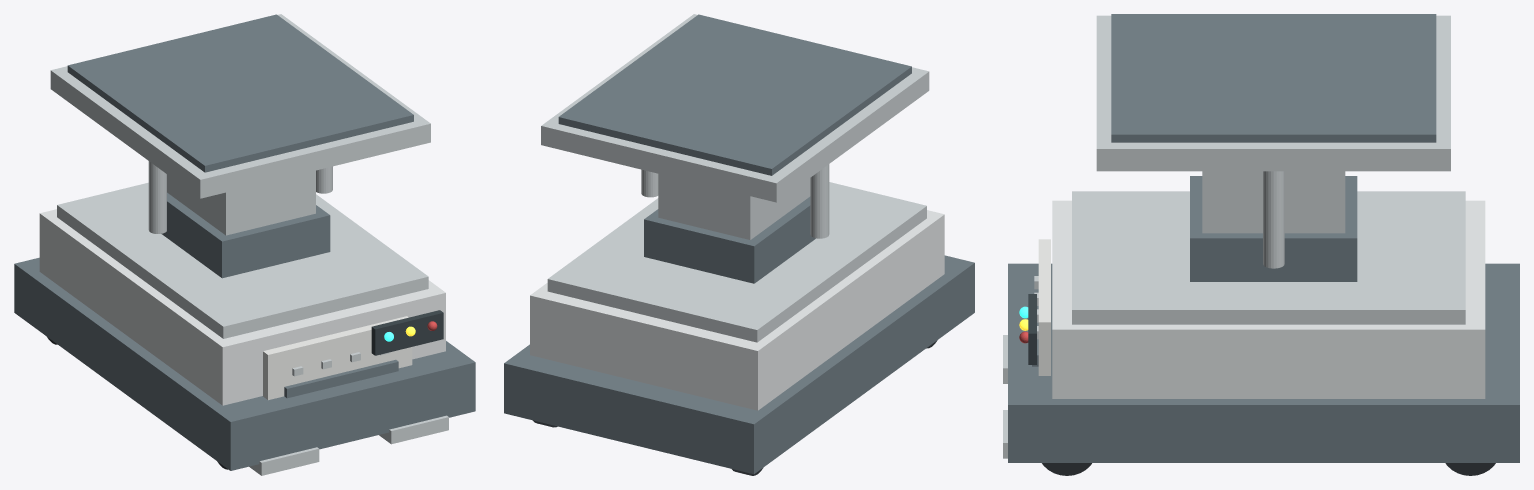
3 renders of one model, left to right at view 1: azimuth 30°, elevation 25°; view 2: azimuth 150°, elevation 25°; view 3: azimuth 270°, elevation 25°, orthographic. The views are drawn at different scales.
Parts seen in each view (by area): view 1: table_mount_top, base_lower_skirt, base_top_bezel, base_upper_shell, table_mount_plate, pedestal_lower, pedestal_mid, base_front_panel, override_panel, base_access_panel, column_guide_-0.23, brake_pedal_left (+1 smaller); view 2: table_mount_top, base_lower_skirt, base_upper_shell, base_top_bezel, table_mount_plate, pedestal_lower, pedestal_mid, column_guide_-0.23; view 3: table_mount_top, base_lower_skirt, base_upper_shell, base_top_bezel, table_mount_plate, pedestal_lower, pedestal_mid, column_guide_0.23, base_front_panel, override_panel.
Part boxes in pixels (x1,y1,x2,y2): table_mount_top: (67, 14, 413, 172); base_lower_skirt: (14, 257, 475, 470); base_top_bezel: (57, 182, 428, 338); base_upper_shell: (39, 209, 445, 405); table_mount_plate: (50, 14, 430, 198); pedestal_lower: (161, 192, 330, 278); pedestal_mid: (167, 170, 315, 235); base_front_panel: (263, 316, 412, 400); override_panel: (371, 310, 443, 355); base_access_panel: (284, 359, 398, 398); column_guide_-0.23: (148, 161, 166, 233); brake_pedal_left: (249, 447, 319, 475); table_mount_top: (558, 14, 911, 175); base_lower_skirt: (504, 255, 974, 474); base_upper_shell: (530, 210, 944, 410); base_top_bezel: (547, 182, 926, 342); table_mount_plate: (541, 14, 929, 202); pedestal_lower: (644, 196, 815, 283); pedestal_mid: (658, 174, 810, 239); column_guide_-0.23: (810, 164, 829, 238); table_mount_top: (1111, 14, 1436, 142); base_lower_skirt: (1008, 263, 1519, 462); base_upper_shell: (1052, 200, 1485, 398); base_top_bezel: (1072, 191, 1465, 324); table_mount_plate: (1096, 15, 1450, 171); pedestal_lower: (1190, 176, 1357, 281); pedestal_mid: (1202, 171, 1345, 233); column_guide_0.23: (1263, 171, 1284, 268); base_front_panel: (1038, 239, 1050, 375); override_panel: (1028, 294, 1036, 364).
Size of the model in its own units: 0.68 by 0.764 by 1.05.
